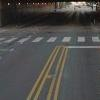Crosswalk: (2, 27, 98, 54)
